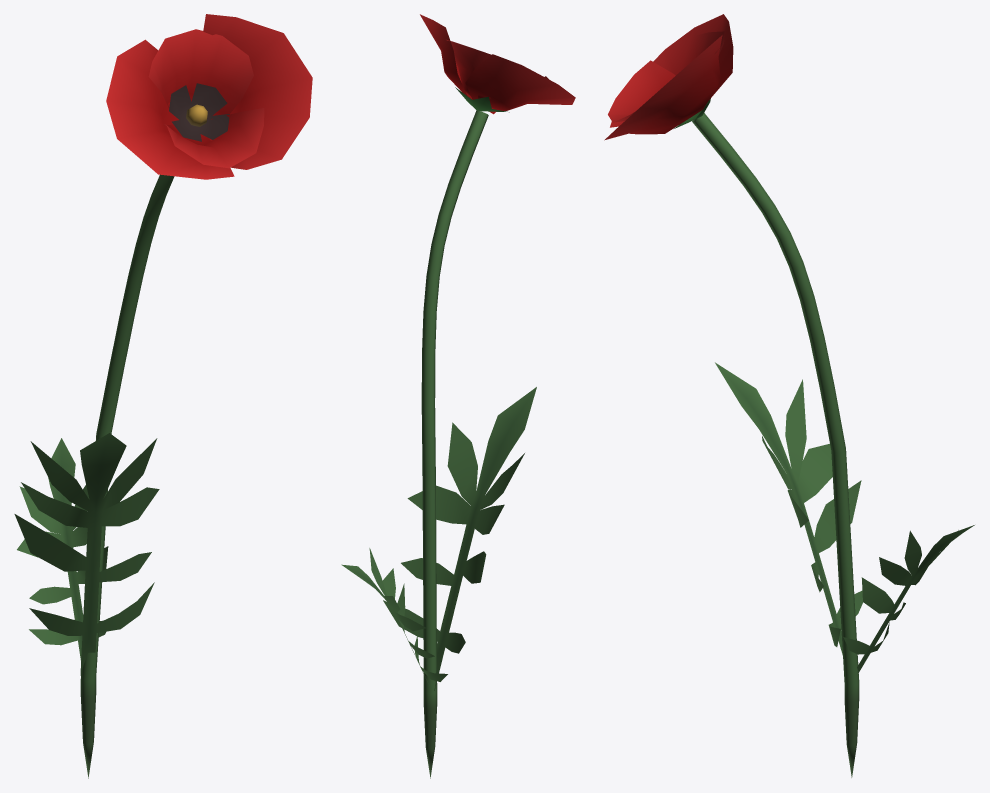
File: plants-flowers-poppy_v4.fbx
3 views of the same model, side by side, from view 1: azimuth 30°, elevation 25°; view 2: azimuth 150°, elevation 25°; view 3: azimuth 270°, elevation 25° (orthographic). The views are drawn at different scales.
Parts seen in each view (by area): view 1: Poppy_v4; view 2: Poppy_v4; view 3: Poppy_v4.
Boxes of the visible parts, x1,y1,x2,y2 form: Poppy_v4: (14, 14, 312, 778); Poppy_v4: (341, 14, 575, 778); Poppy_v4: (604, 14, 974, 777).
Size of the model in its own units: 0.1537 by 0.6 by 0.2635.
